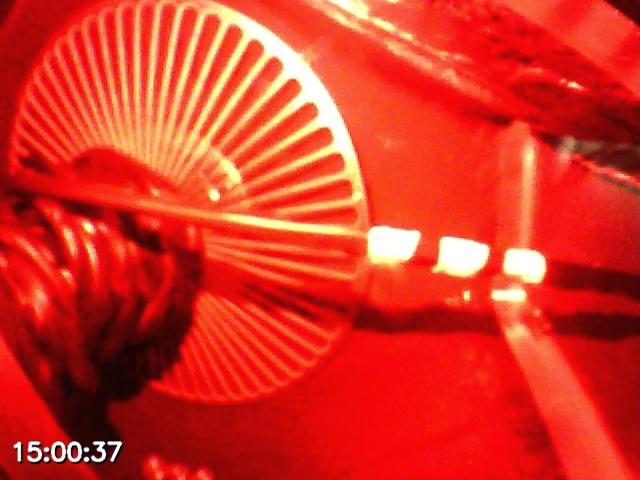white-dots: (366, 225, 547, 284)
